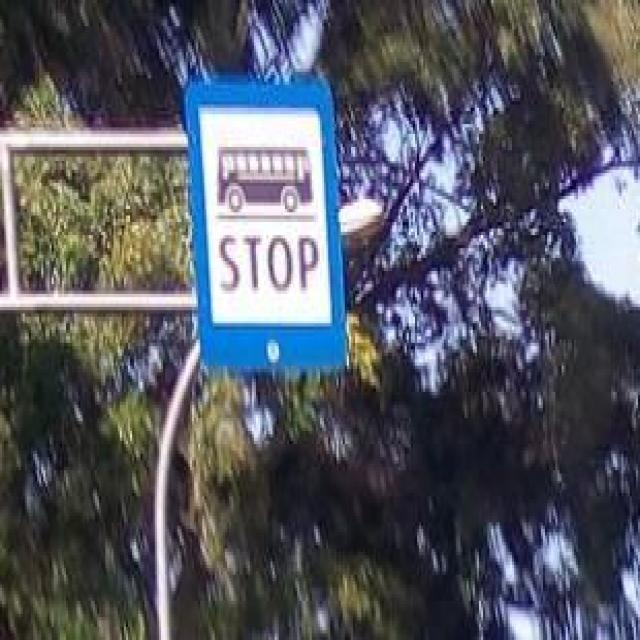traffic sign: (184, 75, 349, 376)
